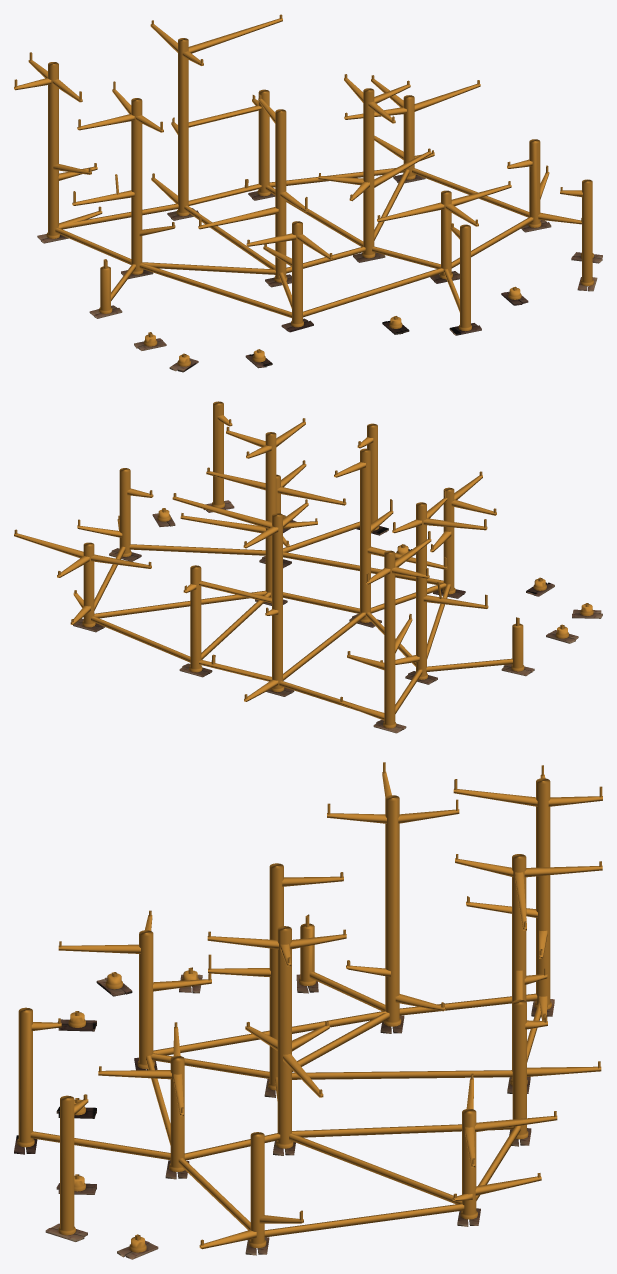
File: traeger.fbx
The picture shows the model from 3 angles, top to bottom: view 1: azimuth 30°, elevation 25°; view 2: azimuth 150°, elevation 25°; view 3: azimuth 270°, elevation 25°; orthographic projection. The views are drawn at different scales.
Parts seen in each view (by area): view 1: Mesh; view 2: Mesh; view 3: Mesh.
Boxes of the visible parts, x1,y1,x2,y2 form: Mesh: (14, 14, 602, 372); Mesh: (14, 401, 602, 733); Mesh: (14, 762, 602, 1259).
Size of the model in its own units: 2453 by 902 by 2102.
